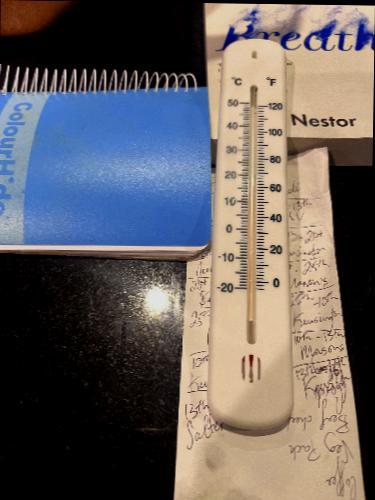thermo: (205, 38, 303, 424)
